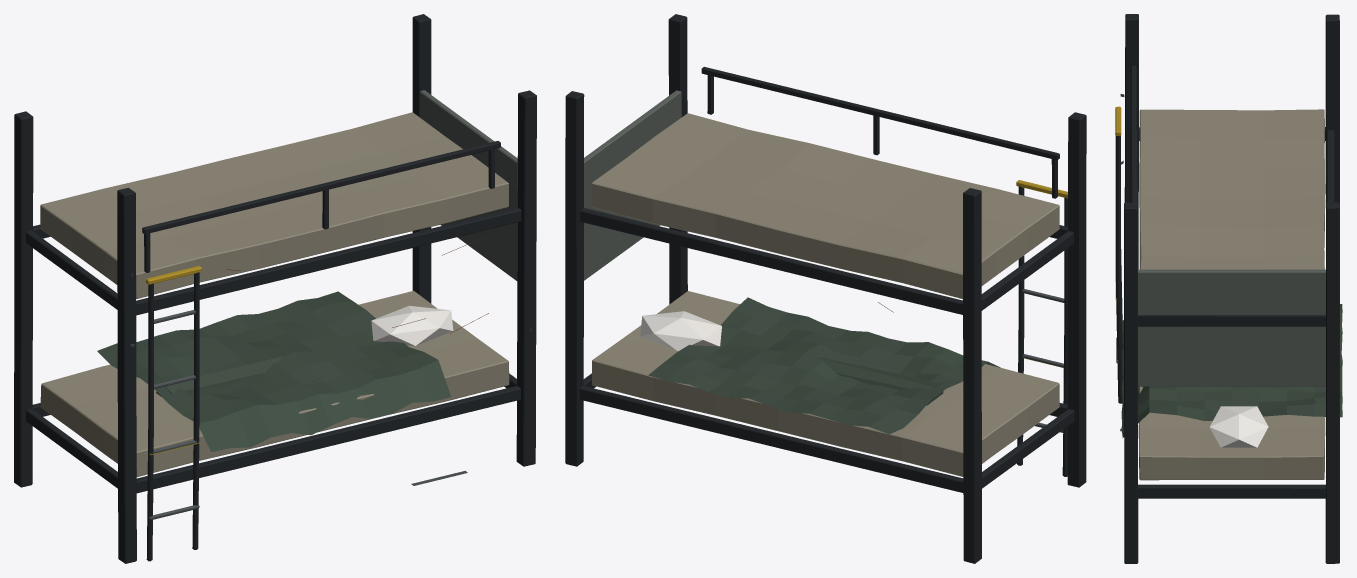
File: bunk_bed.glb
The picture shows the model from 3 angles, left to right: view 1: azimuth 30°, elevation 25°; view 2: azimuth 150°, elevation 25°; view 3: azimuth 270°, elevation 25°; orthographic projection. The views are drawn at different scales.
Visible parts, largest first — view 1: bunk_bed; view 2: bunk_bed; view 3: bunk_bed.
Boxes of the visible parts, x1,y1,x2,y2 form: bunk_bed: (14, 14, 536, 563); bunk_bed: (565, 14, 1086, 563); bunk_bed: (1115, 14, 1342, 563).
Size of the model in its own units: 1.99 by 1.7 by 0.9828.
